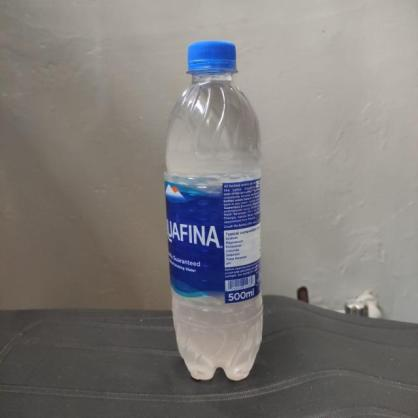bottle: (156, 37, 271, 382)
cap: (182, 37, 244, 81)
label: (164, 175, 264, 297)
